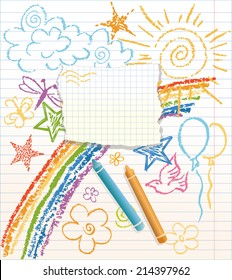bird: (147, 154, 193, 198)
cloud: (4, 3, 137, 84)
star: (94, 1, 141, 47), (9, 134, 43, 174)
sun: (120, 5, 229, 114)
